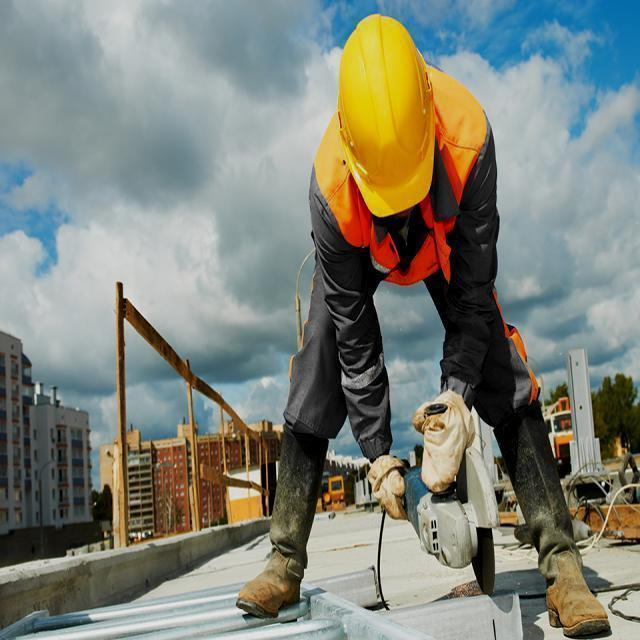vest: (313, 66, 488, 288)
